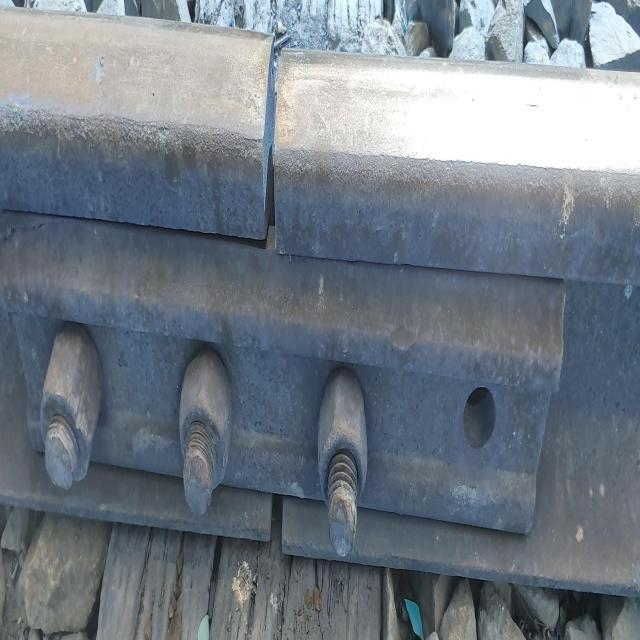Defective Joint: (5, 217, 565, 554)
